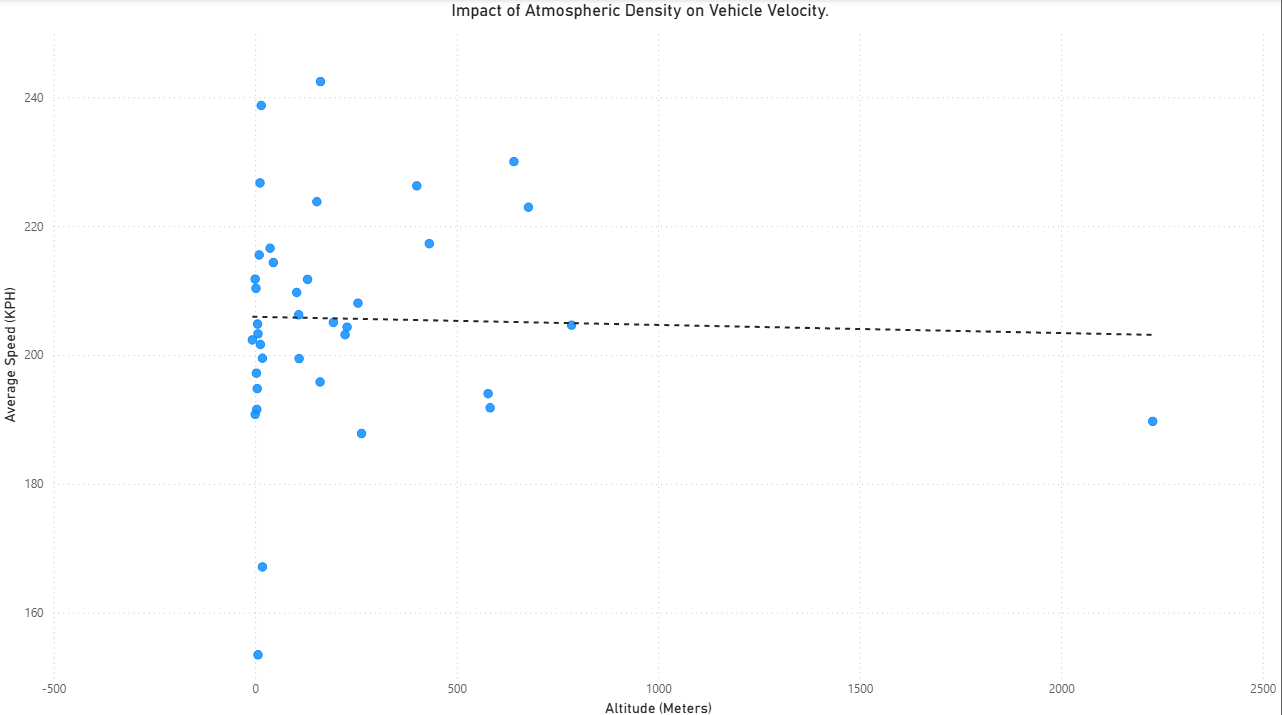

What the dashboard file says about the page in this screenshot:
{"tool":"powerbi","page":{"name":"Page 1","canvas":[1280,720],"ordinal":0},"visuals":[{"type":"scatterChart","title":"Impact of Atmospheric Density on Vehicle Velocity.","fields":{"X":["Avg(v_F1_Engineering_Master.Altitude_Meters)"],"Y":["Avg(v_F1_Engineering_Master.AvgSpeed_KPH)"],"Category":["v_F1_Engineering_Master.CircuitName"]},"box":[0,0,1280,720],"z":0}]}

Visuals, with their boxes in screenshot pixels (x1, y1, x2, y2), scaled from the page's 1280x720 canvas onto the 1282x715 screenshot:
"Impact of Atmospheric Density on Vehicle Velocity." scatterChart: {"x1": 0, "y1": 0, "x2": 1281, "y2": 714}
